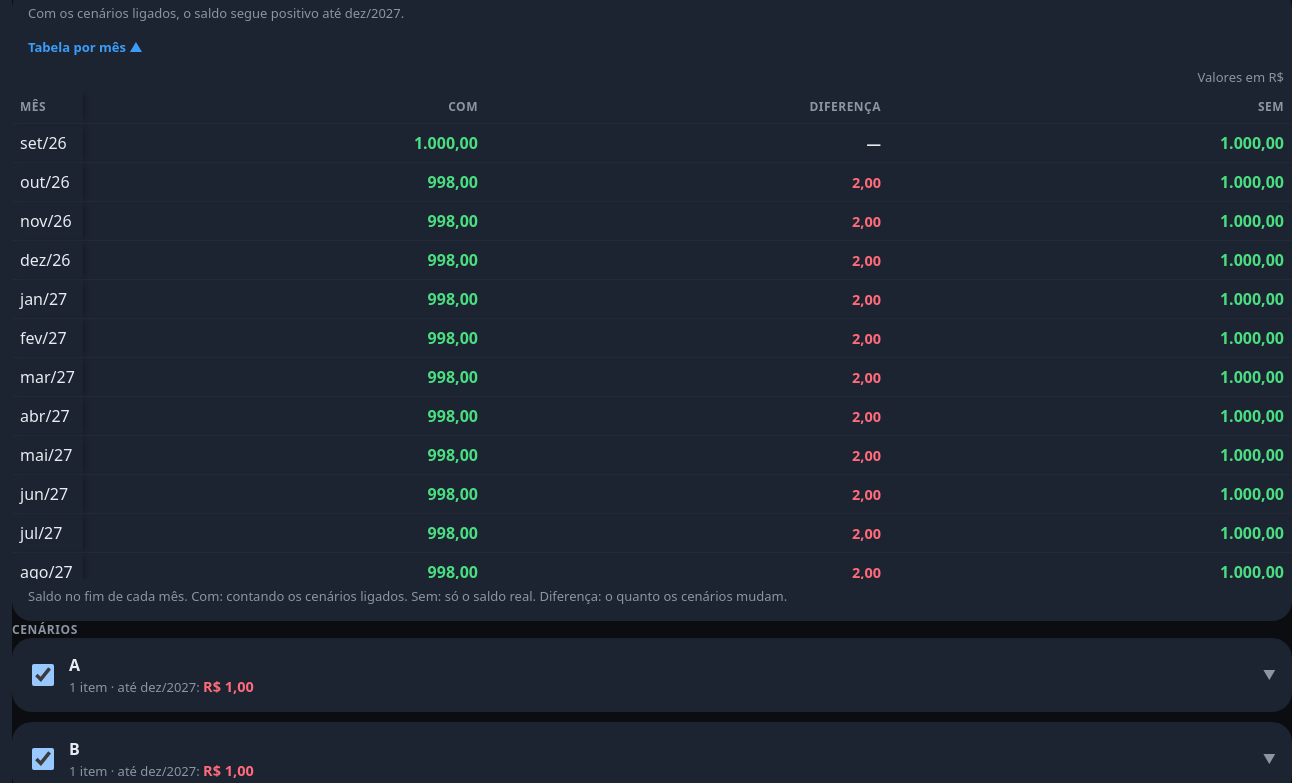
Test case: só um cenário aberto por vez; a seta abre; o checkbox não abre
The width and height of the screenshot is (1292, 783).
(page scrolled)
Click the checkbox named "Ligar A": (43, 675) x1=32 y1=664 x2=54 y2=686
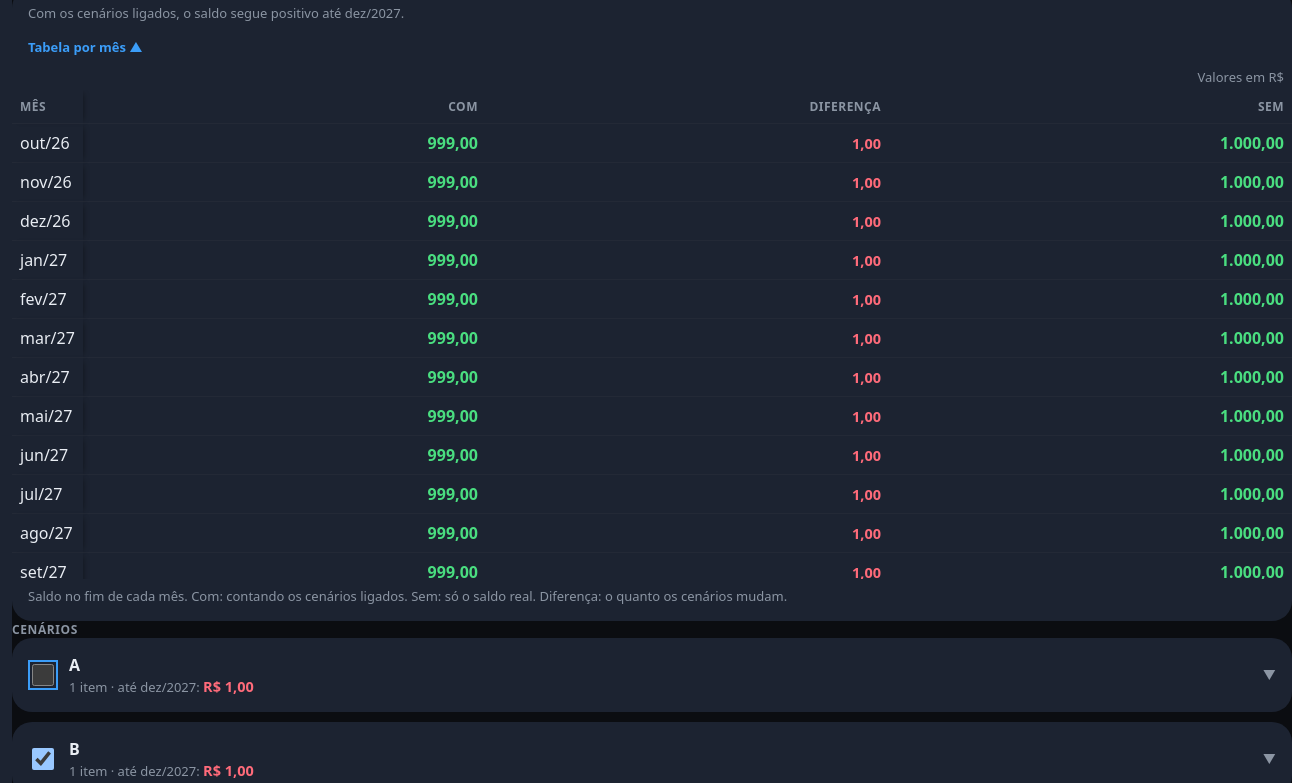
Click the 1st text "▼": (1269, 675) x1=1263 y1=666 x2=1276 y2=684
(page scrolled)
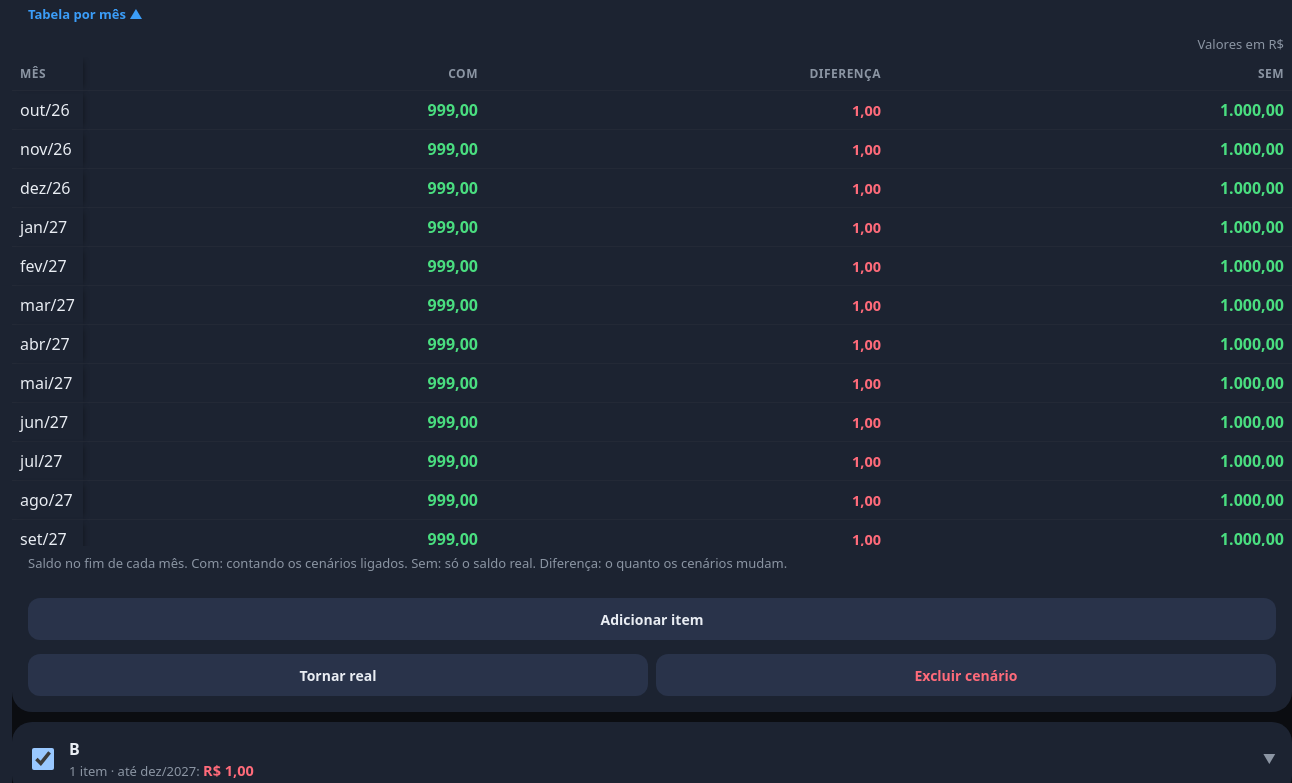
Click the button "B 1 item · até dez/2027: R$ 1,00 ▼": (124, 771) x1=69 y1=738 x2=1276 y2=780
(page scrolled)
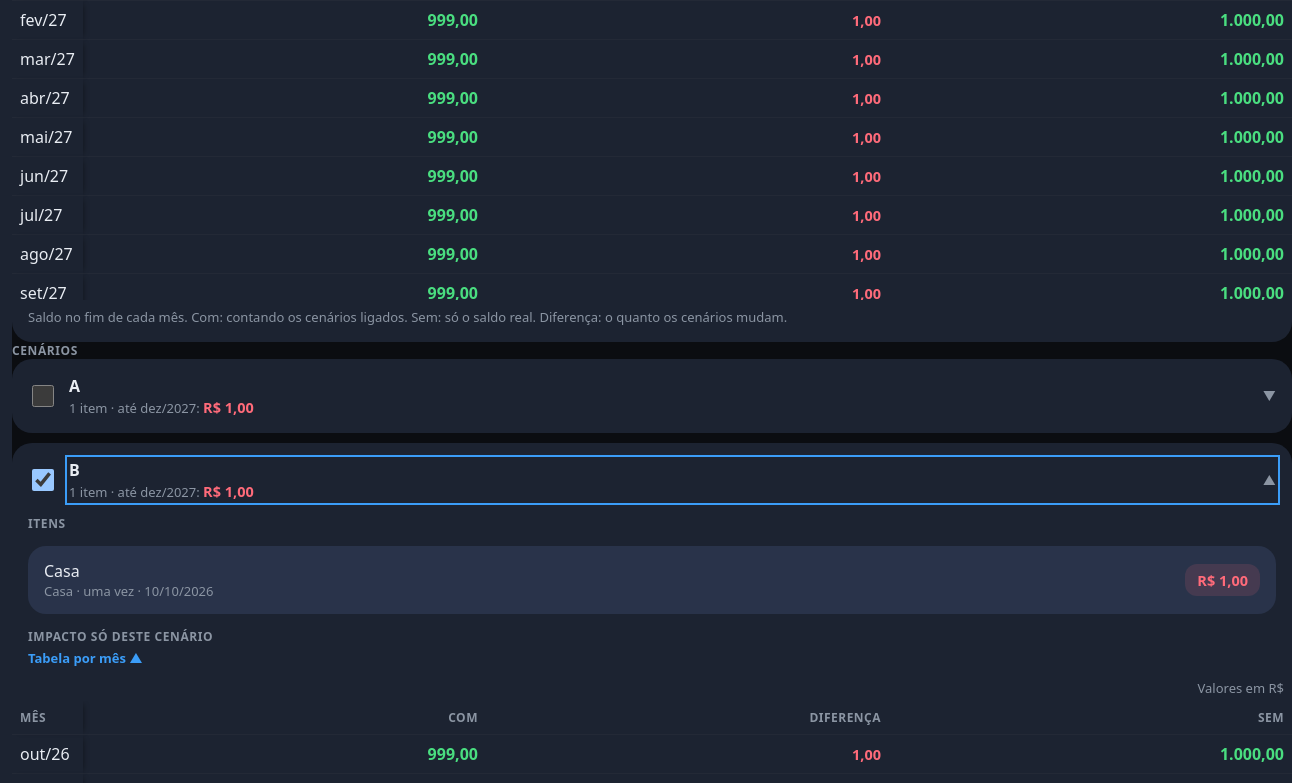
Now the button "A 1 item · até dez/2027: R$ 1,00 ▼" is collapsed, box x1=69 y1=375 x2=1276 y2=417
